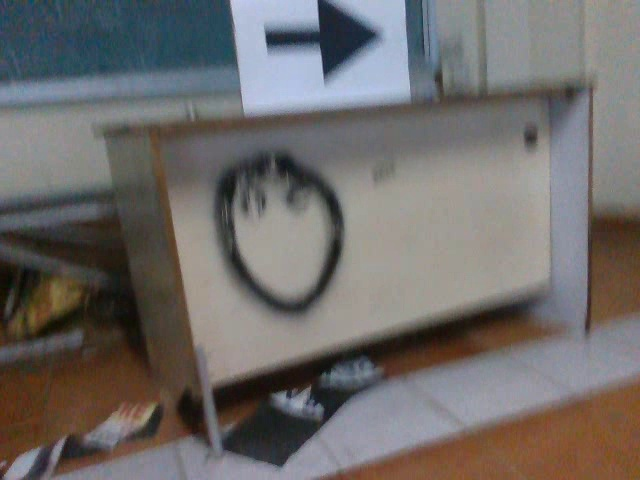Right: (252, 0, 390, 90)
